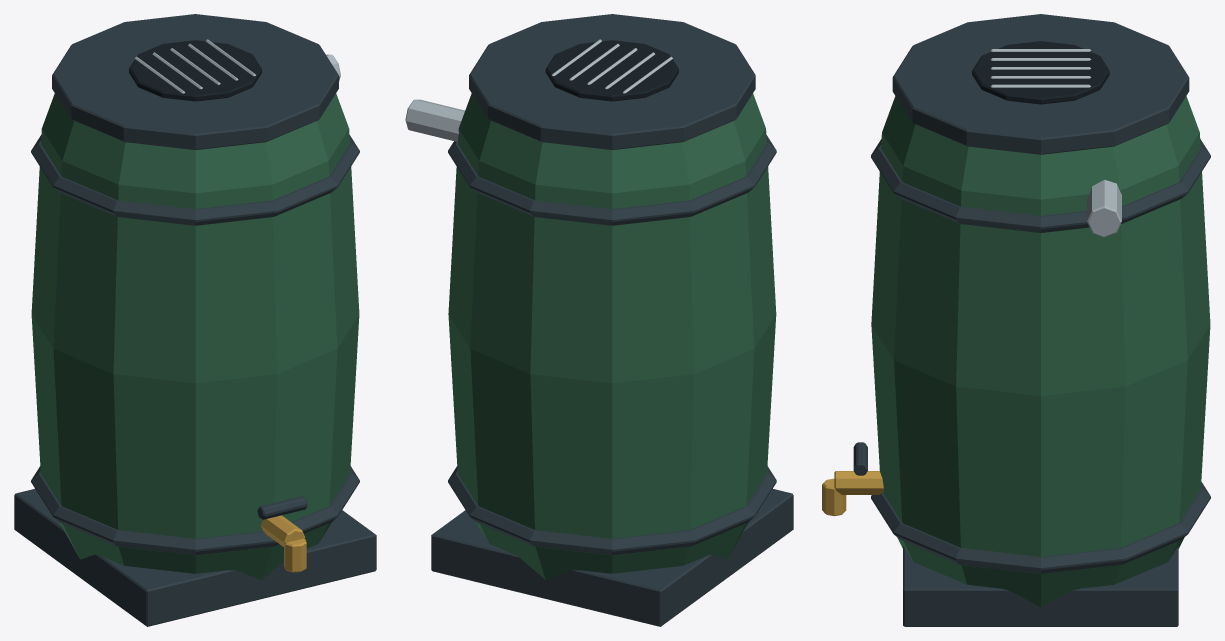
Rendered from b11_barrel_rainwater_collector.glb.
The picture shows the model from 3 angles, left to right: view 1: azimuth 30°, elevation 25°; view 2: azimuth 150°, elevation 25°; view 3: azimuth 270°, elevation 25°; orthographic projection. The views are drawn at different scales.
Visible parts, largest first — view 1: b11_barrel_rainwater_collector; view 2: b11_barrel_rainwater_collector; view 3: b11_barrel_rainwater_collector.
Boxes of the visible parts, bbox=[...] form: b11_barrel_rainwater_collector: bbox=[14, 14, 376, 626]; b11_barrel_rainwater_collector: bbox=[405, 14, 793, 626]; b11_barrel_rainwater_collector: bbox=[822, 14, 1210, 626].
Size of the model in its own units: 0.7008 by 1.05 by 0.7338.
